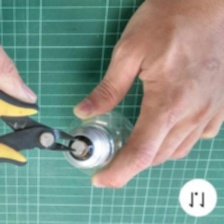light_bulb: (61, 103, 148, 183)
